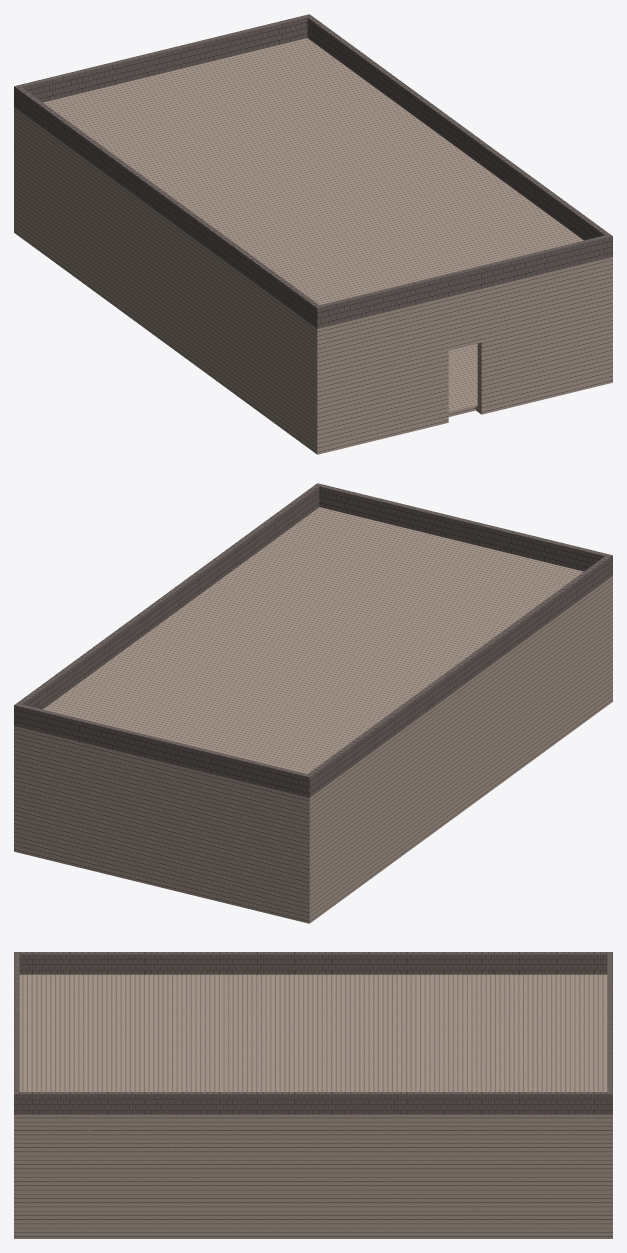
Rendered from newspaper_office.glb.
3 renders of one model, top to bottom at view 1: azimuth 30°, elevation 25°; view 2: azimuth 150°, elevation 25°; view 3: azimuth 270°, elevation 25°, orthographic.
Visible parts, largest first — view 1: newspaper_office-col; view 2: newspaper_office-col; view 3: newspaper_office-col.
Boxes of the visible parts, left/top/right/bottom form: newspaper_office-col: left=14, top=14, right=612, bottom=454; newspaper_office-col: left=14, top=483, right=612, bottom=923; newspaper_office-col: left=14, top=952, right=612, bottom=1238.
Size of the model in its own units: 9 by 4.26 by 16.
2 materials, 2 textured.
